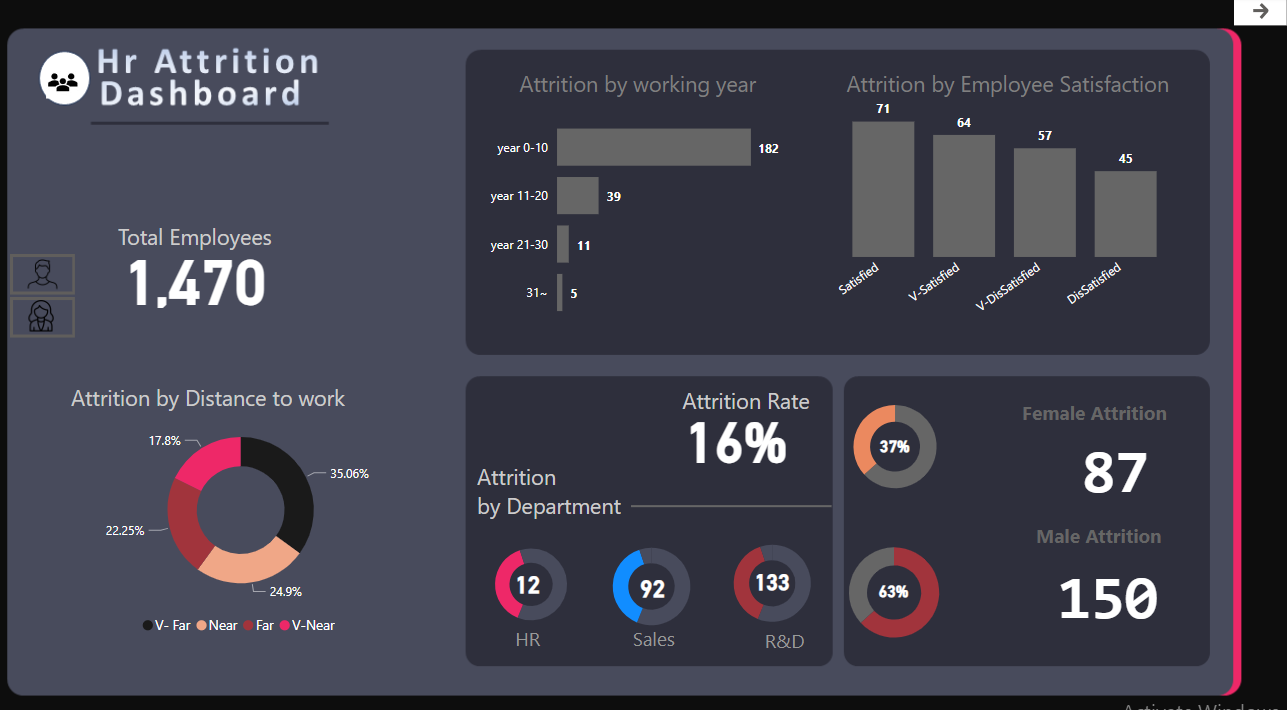

Layout of this report page (visuals, bound fields, positions):
{"tool":"powerbi","page":{"name":"Page 1","canvas":[1600,1000],"ordinal":1},"visuals":[{"type":"clusteredBarChart","title":"Attrition By Education Field","fields":{"Y":["Sum(HR-Employee-Attrition.EmployeeCount)"],"Category":["HR-Employee-Attrition.EducationField"],"Series":["HR-Employee-Attrition.Attrition"]},"box":[1064.3,284,535.7,368.5],"z":0},{"type":"barChart","title":"Attrtion by WorkLifeBalance","fields":{"Category":["HR-Employee-Attrition.WorkLifeBalance (groups)"],"Series":["HR-Employee-Attrition.Gender"],"Y":["Sum(HR-Employee-Attrition.Attrtion Count)"]},"box":[1064.3,677.8,535.7,321.8],"z":1000},{"type":"barChart","title":"Attrtion by DistanceFromHome ","fields":{"Y":["Sum(HR-Employee-Attrition.Attrtion Count)"],"Category":["HR-Employee-Attrition.DistanceFromHome (groups)"],"Series":["HR-Employee-Attrition.Gender"]},"box":[0,679.6,526.7,320],"z":2000},{"type":"columnChart","title":"Attrtion by Age","fields":{"Y":["Sum(HR-Employee-Attrition.Attrtion Count)"],"Category":["HR-Employee-Attrition.Age (groups)"],"Series":["HR-Employee-Attrition.Gender"]},"box":[586.3,522.3,410.7,416.7],"z":3000},{"type":"clusteredBarChart","title":"Attrtion by MaritalStatus ","fields":{"Y":["Sum(HR-Employee-Attrition.Attrtion Count)"],"Category":["HR-Employee-Attrition.MaritalStatus"],"Series":["HR-Employee-Attrition.Gender"]},"box":[0,307.4,526.7,334.4],"z":4000},{"type":"shape","box":[213.9,57.5,1035.5,179.8],"z":5000},{"type":"shape","box":[578.7,134.4,306.7,133.1],"z":6000},{"type":"donutChart","fields":{"Category":["HR-Employee-Attrition.Attrtion Count"],"Y":["Sum(HR-Employee-Attrition.EmployeeCount)"],"Series":["HR-Employee-Attrition.Attrition"]},"box":[566.3,116.9,165.4,167.2],"z":7000},{"type":"card","fields":{"Values":["HR-Employee-Attrition.attrtionprecentage"]},"box":[609.4,174.4,79.1,53.9],"z":8000},{"type":"cardVisual","fields":{"Data":["Count(HR-Employee-Attrition.EmployeeNumber)"]},"box":[239.1,125.8,305.6,145.6],"z":9000},{"type":"image","box":[744.3,140.2,107.9,73.7],"z":10000},{"type":"card","fields":{"Values":["Sum(HR-Employee-Attrition.Attrtion Count)"]},"box":[731.7,204.9,120.4,64.7],"z":11000},{"type":"shape","box":[920.4,116.9,307.4,147.4],"z":12000},{"type":"donutChart","fields":{"Y":["Sum(HR-Employee-Attrition.EmployeeCount)"],"Category":["HR-Employee-Attrition.Attrtion Count"],"Series":["HR-Employee-Attrition.Attrition"]},"box":[907.9,95.3,179.8,188.8],"z":13000},{"type":"image","box":[1080.4,122.2,109.7,79.1],"z":14000},{"type":"card","fields":{"Values":["HR-Employee-Attrition.remaining employees"]},"box":[1087.6,176.2,116.9,73.7],"z":15000},{"type":"card","fields":{"Values":["HR-Employee-Attrition.NOTAttrition"]},"box":[954.6,156.4,84.5,57.5],"z":16000},{"type":"image","box":[239.1,62.9,64.7,53.9],"z":17000},{"type":"textbox","title":"DEMOGRAPHICS","box":[312.8,75.5,231.9,37.8],"z":18000},{"type":"image","box":[21.7,66.7,171.7,148.3],"z":19000},{"type":"shape","box":[1297.6,86.3,270.8,160.7],"z":20000},{"type":"card","fields":{"Values":["Count(HR-Employee-Attrition.JobRole)"]},"box":[1459.5,137,91.7,93.3],"z":21000},{"type":"image","box":[1319.5,132,125,106.7],"z":22000},{"type":"textbox","title":"Job Role Count","box":[1319.5,98.7,200,45],"z":23000},{"type":"actionButton","box":[0,0,52.1,40.2],"z":24000},{"type":"actionButton","box":[1552.1,0,47.6,40.2],"z":25000}]}

Visuals, with their boxes on the page's 1600x1000 design canvas (x1, y1, x2, y2). These are canvas units, not pixel positions in the 1287x710 screenshot, which may show the page scaled, cropped or inside an application window:
"Attrition By Education Field" clusteredBarChart: <region>1064, 284, 1600, 652</region>
"Attrtion by WorkLifeBalance" barChart: <region>1064, 678, 1600, 1000</region>
"Attrtion by DistanceFromHome " barChart: <region>0, 680, 527, 1000</region>
"Attrtion by Age" columnChart: <region>586, 522, 997, 939</region>
"Attrtion by MaritalStatus " clusteredBarChart: <region>0, 307, 527, 642</region>
shape: <region>214, 58, 1249, 237</region>
shape: <region>579, 134, 885, 268</region>
donutChart - HR-Employee-Attrition.Attrtion Count x Sum(HR-Employee-Attrition.EmployeeCount): <region>566, 117, 732, 284</region>
card - HR-Employee-Attrition.attrtionprecentage: <region>609, 174, 688, 228</region>
cardVisual - Count(HR-Employee-Attrition.EmployeeNumber): <region>239, 126, 545, 271</region>
image: <region>744, 140, 852, 214</region>
card - Sum(HR-Employee-Attrition.Attrtion Count): <region>732, 205, 852, 270</region>
shape: <region>920, 117, 1228, 264</region>
donutChart - Sum(HR-Employee-Attrition.EmployeeCount) x HR-Employee-Attrition.Attrtion Count: <region>908, 95, 1088, 284</region>
image: <region>1080, 122, 1190, 201</region>
card - HR-Employee-Attrition.remaining employees: <region>1088, 176, 1204, 250</region>
card - HR-Employee-Attrition.NOTAttrition: <region>955, 156, 1039, 214</region>
image: <region>239, 63, 304, 117</region>
"DEMOGRAPHICS" textbox: <region>313, 76, 545, 113</region>
image: <region>22, 67, 193, 215</region>
shape: <region>1298, 86, 1568, 247</region>
card - Count(HR-Employee-Attrition.JobRole): <region>1460, 137, 1551, 230</region>
image: <region>1320, 132, 1444, 239</region>
"Job Role Count" textbox: <region>1320, 99, 1520, 144</region>
actionButton: <region>0, 0, 52, 40</region>
actionButton: <region>1552, 0, 1600, 40</region>
